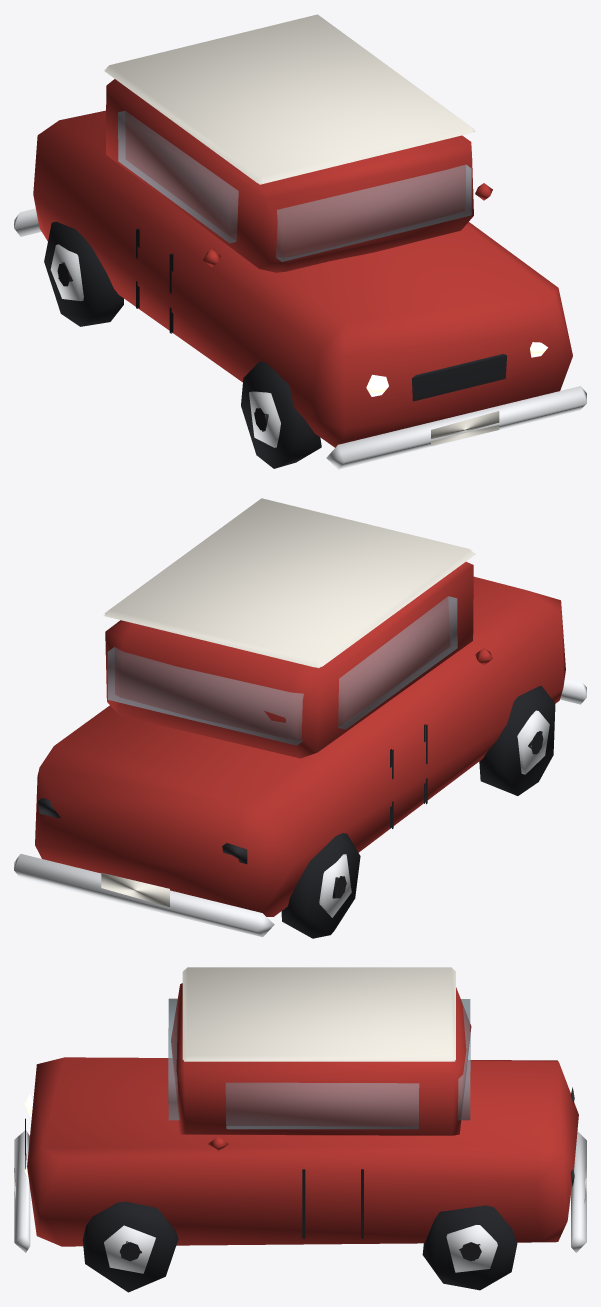
The model's file is lod_car_hatch.glb.
The picture shows the model from 3 angles, top to bottom: view 1: azimuth 30°, elevation 25°; view 2: azimuth 150°, elevation 25°; view 3: azimuth 270°, elevation 25°; orthographic projection. The views are drawn at different scales.
Parts seen in each view (by area): view 1: car_hatch; view 2: car_hatch; view 3: car_hatch.
Part boxes in pixels (<box>): car_hatch: <box>14,14,586,469</box>; car_hatch: <box>14,498,586,938</box>; car_hatch: <box>14,967,586,1292</box>.
Size of the model in its own units: 1.86 by 1.59 by 3.66.
